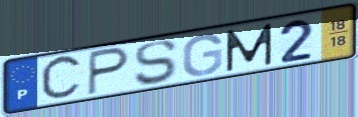2: (275, 16, 318, 67)
C: (39, 52, 85, 105)
G: (180, 32, 225, 77)
M: (224, 21, 275, 74)
P: (85, 45, 132, 98)
S: (133, 38, 180, 88)
